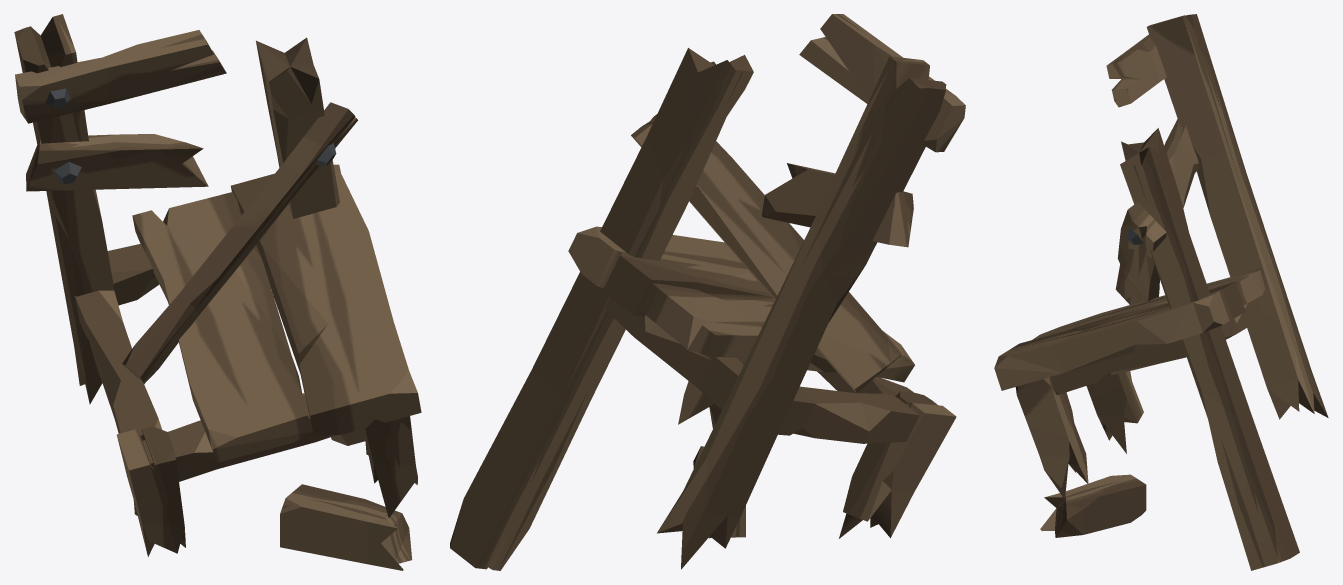
File: SM_Prop_Chair_01_Damaged_01.fbx
3 views of the same model, side by side, from view 1: azimuth 30°, elevation 25°; view 2: azimuth 150°, elevation 25°; view 3: azimuth 270°, elevation 25° (orthographic). The views are drawn at different scales.
Parts seen in each view (by area): view 1: SM_Prop_Chair_01_Damaged_01; view 2: SM_Prop_Chair_01_Damaged_01; view 3: SM_Prop_Chair_01_Damaged_01.
Part boxes in pixels (left/top/right/bottom): SM_Prop_Chair_01_Damaged_01: left=14, top=14, right=421, bottom=570; SM_Prop_Chair_01_Damaged_01: left=450, top=14, right=965, bottom=570; SM_Prop_Chair_01_Damaged_01: left=994, top=14, right=1328, bottom=570.
Bounding box in the file's own units: 71.72 × 86.88 × 62.34.
